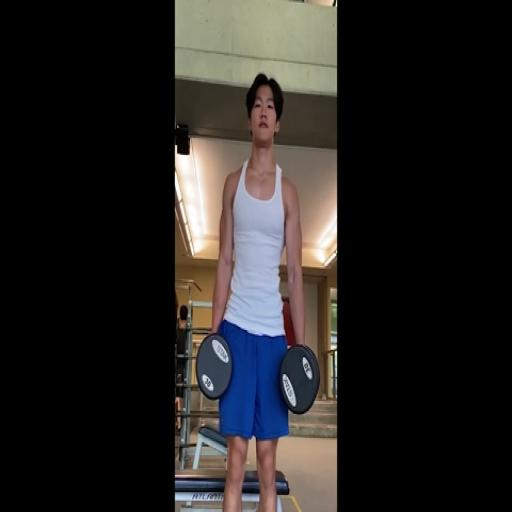exercise: (206, 71, 310, 511)
